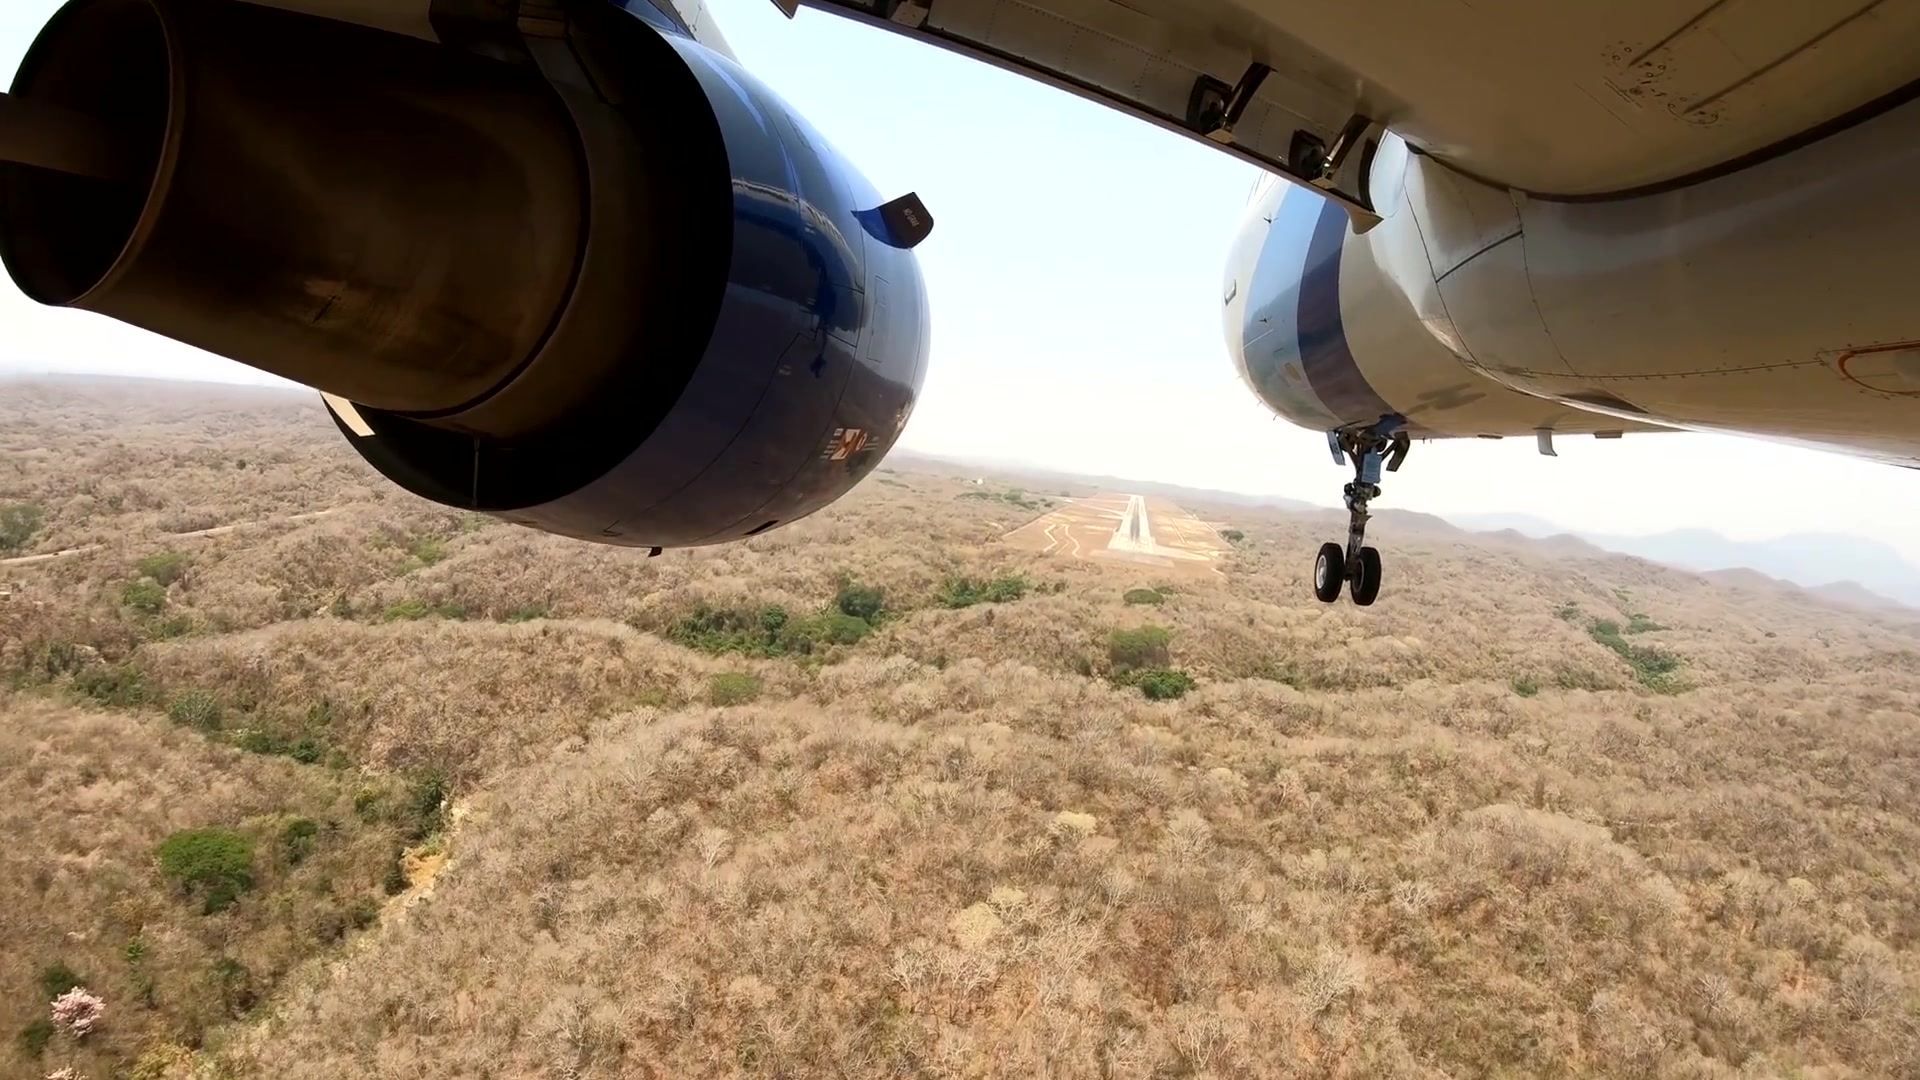runway: (1110, 495, 1153, 555)
